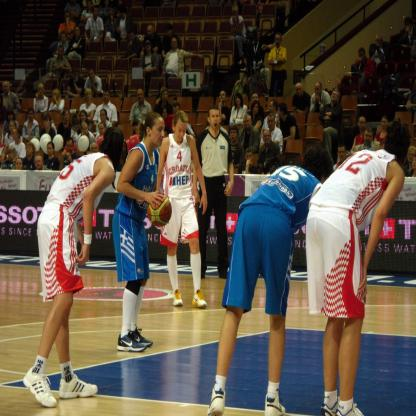Ball: (146, 198, 172, 229)
